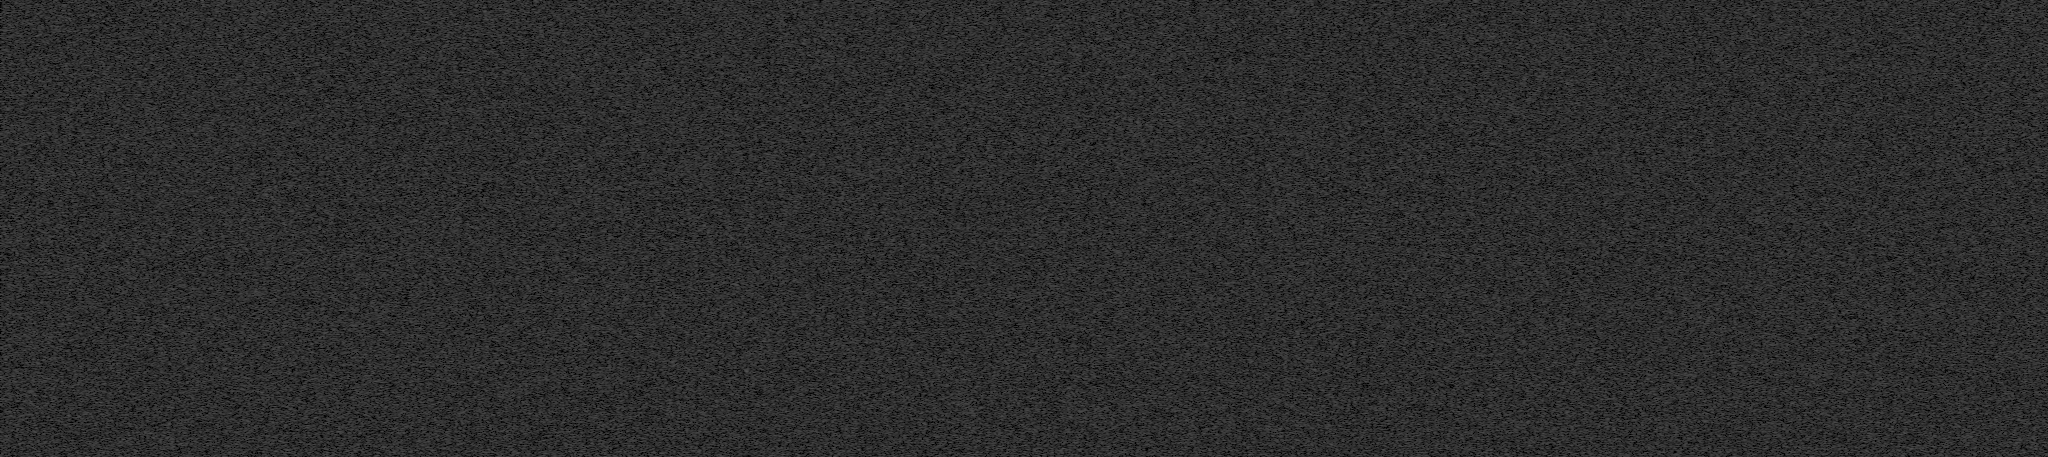wv_lsb: (781, 181, 785, 232), (781, 133, 785, 181), (781, 54, 785, 98), (781, 10, 785, 33), (397, 201, 401, 223), (781, 287, 785, 309), (781, 309, 785, 329), (781, 33, 785, 50), (396, 188, 401, 200), (781, 339, 785, 355), (781, 118, 785, 132), (781, 103, 785, 116), (781, 403, 785, 417), (781, 384, 785, 396), (781, 360, 785, 372), (781, 276, 785, 286), (781, 427, 785, 433), (781, 257, 785, 262), (781, 234, 784, 242), (781, 262, 784, 269), (397, 25, 400, 31), (781, 272, 785, 276), (781, 50, 785, 54), (396, 12, 400, 16), (781, 373, 785, 377), (781, 436, 785, 439), (781, 99, 785, 102), (397, 34, 400, 38), (781, 440, 784, 443), (397, 56, 400, 59), (397, 39, 400, 42)
wv_usb: (679, 145, 684, 419), (679, 9, 684, 144), (330, 351, 334, 457), (679, 423, 684, 457), (330, 67, 334, 89), (330, 149, 334, 168), (146, 255, 152, 265), (330, 50, 334, 63), (330, 21, 334, 31), (330, 175, 334, 184), (330, 91, 334, 101), (330, 223, 334, 231), (146, 225, 150, 228), (146, 56, 150, 60), (330, 10, 334, 13), (148, 405, 150, 409), (148, 238, 150, 242), (146, 217, 150, 219), (148, 202, 150, 206), (148, 249, 150, 252)
